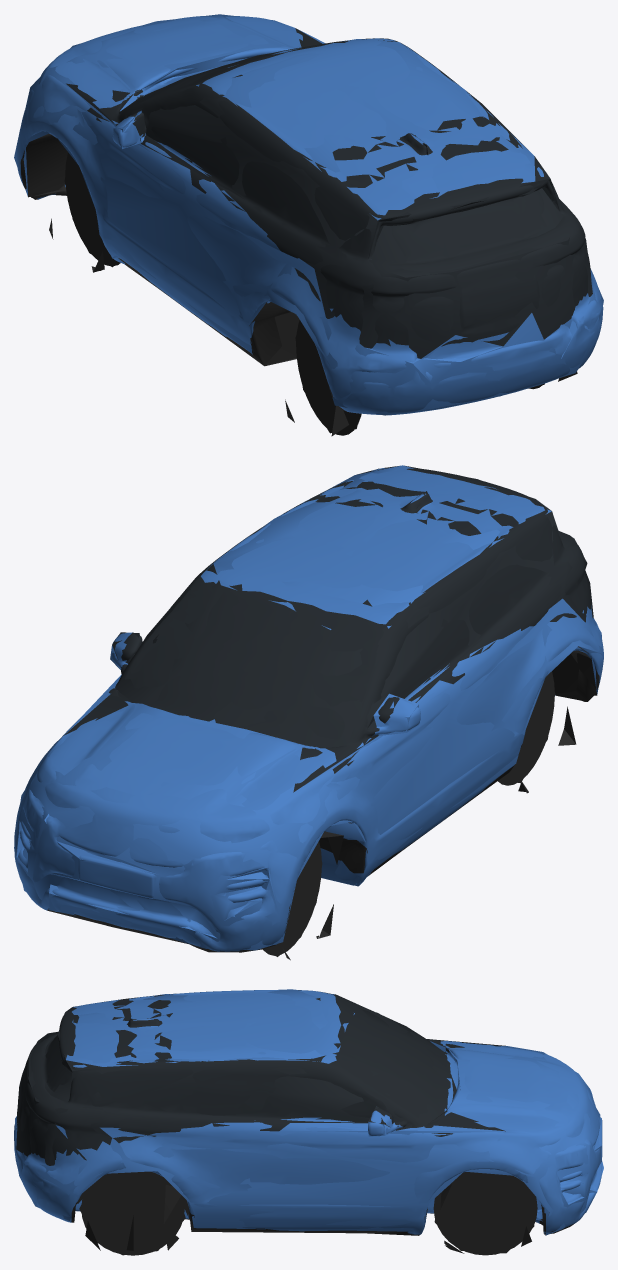
Rendered from land-rover-evoque.glb.
3 views of the same model, one above another, from view 1: azimuth 30°, elevation 25°; view 2: azimuth 150°, elevation 25°; view 3: azimuth 270°, elevation 25° (orthographic). The views are drawn at different scales.
Parts seen in each view (by area): view 1: body, far; view 2: body, far; view 3: body, far.
Boxes of the visible parts, <box> form: body: <box>16,16,603,435</box>; far: <box>14,14,603,436</box>; body: <box>14,467,603,959</box>; far: <box>14,465,603,959</box>; body: <box>14,990,602,1255</box>; far: <box>14,989,603,1255</box>.
Bounding box in the file's own units: 2.03 × 1.71 × 4.5.
